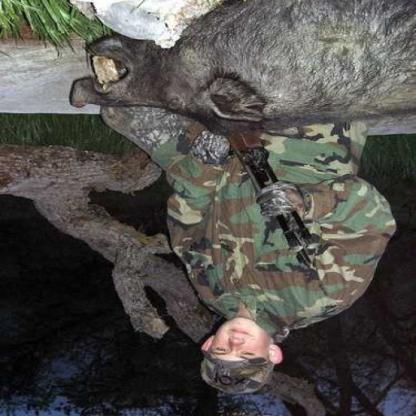boar: (71, 1, 415, 184)
